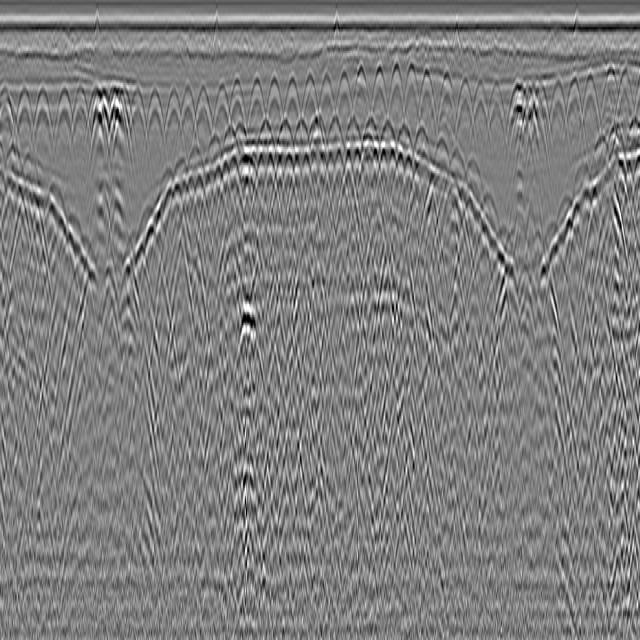hyperbola: (27, 64, 54, 166), (142, 61, 164, 171), (126, 80, 148, 168), (161, 80, 183, 168), (456, 74, 476, 164), (419, 55, 437, 153), (489, 62, 506, 164), (470, 81, 492, 158), (52, 80, 73, 160), (438, 65, 456, 158), (548, 74, 567, 161), (69, 81, 89, 163), (192, 71, 212, 151), (564, 61, 582, 148), (176, 74, 197, 148), (353, 61, 370, 150), (16, 81, 34, 163), (508, 55, 522, 158), (246, 68, 266, 138), (0, 78, 17, 158), (582, 74, 600, 148), (387, 58, 404, 133), (404, 55, 421, 130), (301, 68, 319, 138), (615, 62, 632, 136), (211, 74, 229, 140), (265, 68, 284, 130), (336, 61, 352, 132), (371, 55, 386, 130), (317, 68, 336, 127), (227, 78, 246, 135), (602, 58, 620, 117), (536, 71, 548, 158), (284, 71, 300, 135)
